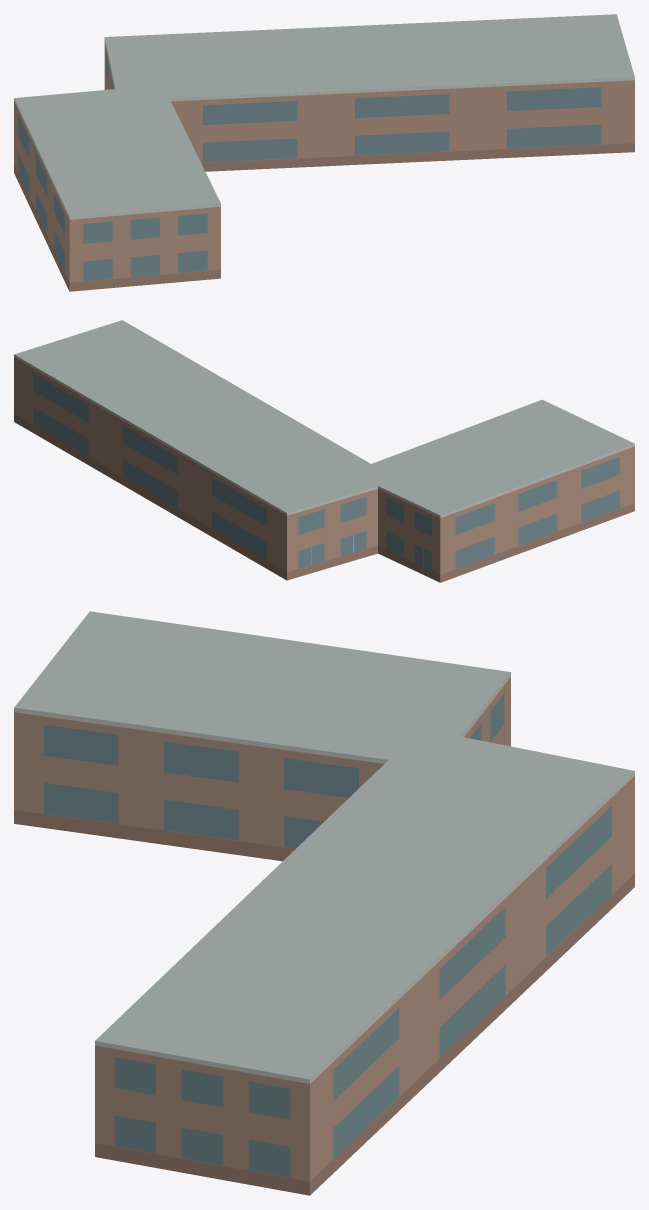
File: survey-upis-32509634.glb
The picture shows the model from 3 angles, top to bottom: view 1: azimuth 30°, elevation 25°; view 2: azimuth 150°, elevation 25°; view 3: azimuth 270°, elevation 25°; orthographic projection. The views are drawn at different scales.
Parts seen in each view (by area): view 1: survey-upis-32509634.tmp; view 2: survey-upis-32509634.tmp; view 3: survey-upis-32509634.tmp.
Part boxes in pixels (left/top/right/bottom): survey-upis-32509634.tmp: left=14, top=14, right=634, bottom=291; survey-upis-32509634.tmp: left=14, top=320, right=634, bottom=582; survey-upis-32509634.tmp: left=14, top=611, right=634, bottom=1195.
Size of the model in its own units: 52.76 by 6.1 by 29.57.
